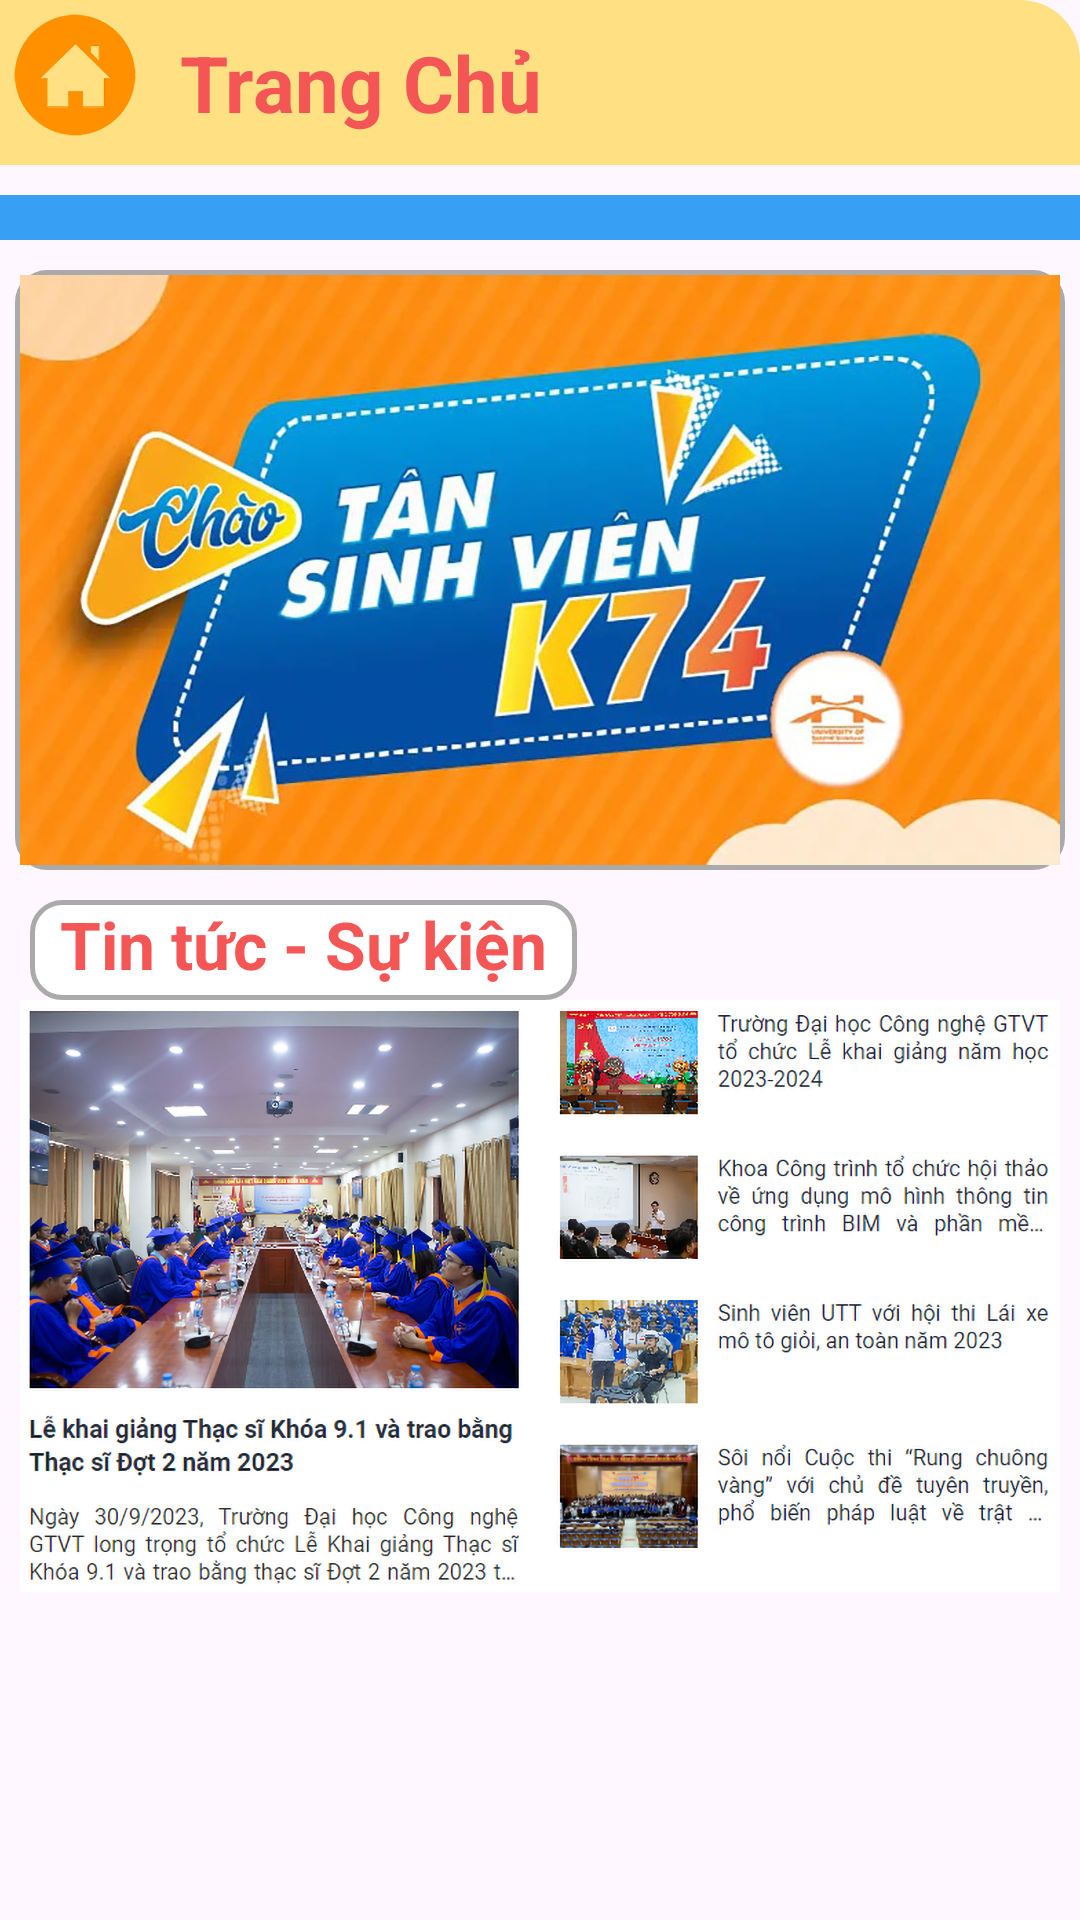

Where to tap for icons on this 1080*1920 app screen, as (x,y):
home: (75,75)
